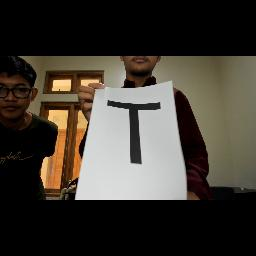t: (104, 96, 168, 170)
